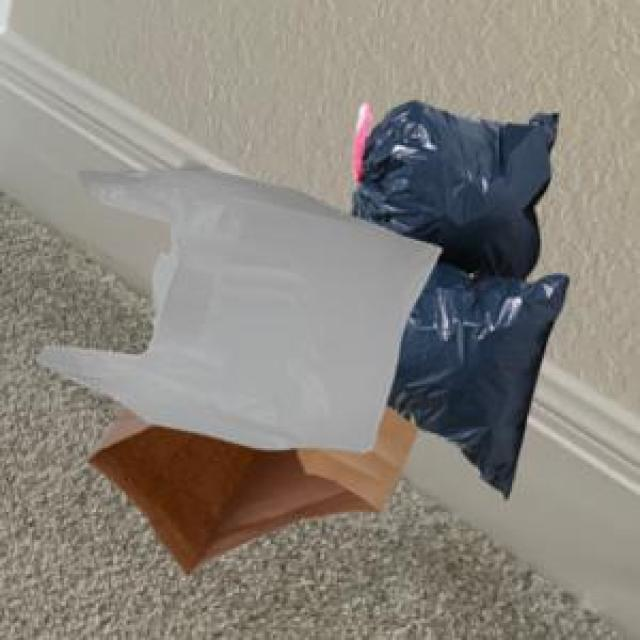miscellaneous trash: (348, 96, 565, 495)
paper: (83, 401, 416, 572)
